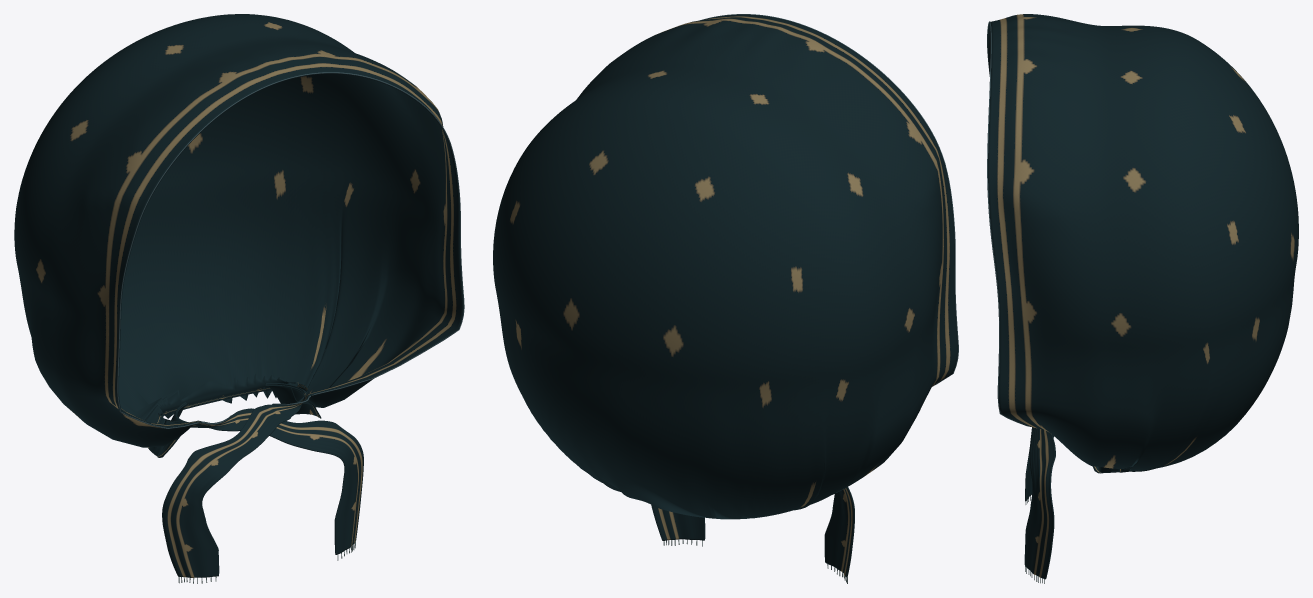
The model's file is Masculine-curly-top-jersey-pashmina250-headgear.glb.
3 views of the same model, side by side, from view 1: azimuth 30°, elevation 25°; view 2: azimuth 150°, elevation 25°; view 3: azimuth 270°, elevation 25° (orthographic). The views are drawn at different scales.
Parts seen in each view (by area): view 1: 226 headgear / Headwear / continuous woven pashmina239, 226 headgear / Headwear / face edge239; view 2: 226 headgear / Headwear / continuous woven pashmina239, 226 headgear / Headwear / face edge239; view 3: 226 headgear / Headwear / continuous woven pashmina239, 226 headgear / Headwear / face edge239.
Boxes of the visible parts, bbox=[...] form: 226 headgear / Headwear / continuous woven pashmina239: bbox=[14, 14, 463, 577]; 226 headgear / Headwear / face edge239: bbox=[117, 72, 464, 428]; 226 headgear / Headwear / continuous woven pashmina239: bbox=[493, 14, 957, 577]; 226 headgear / Headwear / face edge239: bbox=[700, 14, 958, 386]; 226 headgear / Headwear / continuous woven pashmina239: bbox=[987, 14, 1298, 579]; 226 headgear / Headwear / face edge239: bbox=[987, 21, 1030, 426].
Size of the model in its own units: 1.07 by 1.41 by 0.7828.
3 materials, 1 textured.
